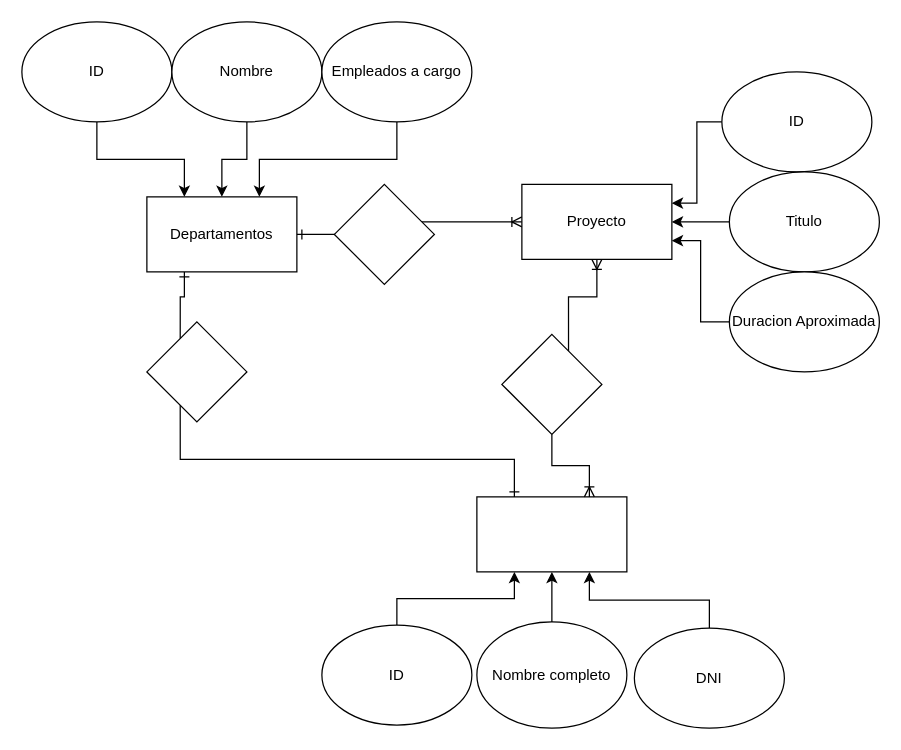
This 901x750 diagram has some shape labels left out. Each missing label, with the box of its shape:
Dirige: (146, 321, 247, 422)
Empleado: (476, 496, 627, 572)
Tiene: (333, 183, 434, 284)
Trabaja: (501, 333, 602, 434)
